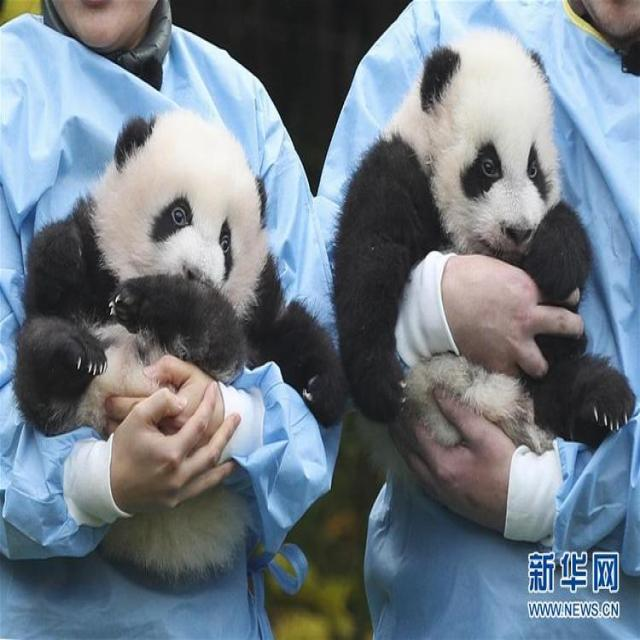panda: (11, 105, 351, 591), (351, 23, 638, 512)
